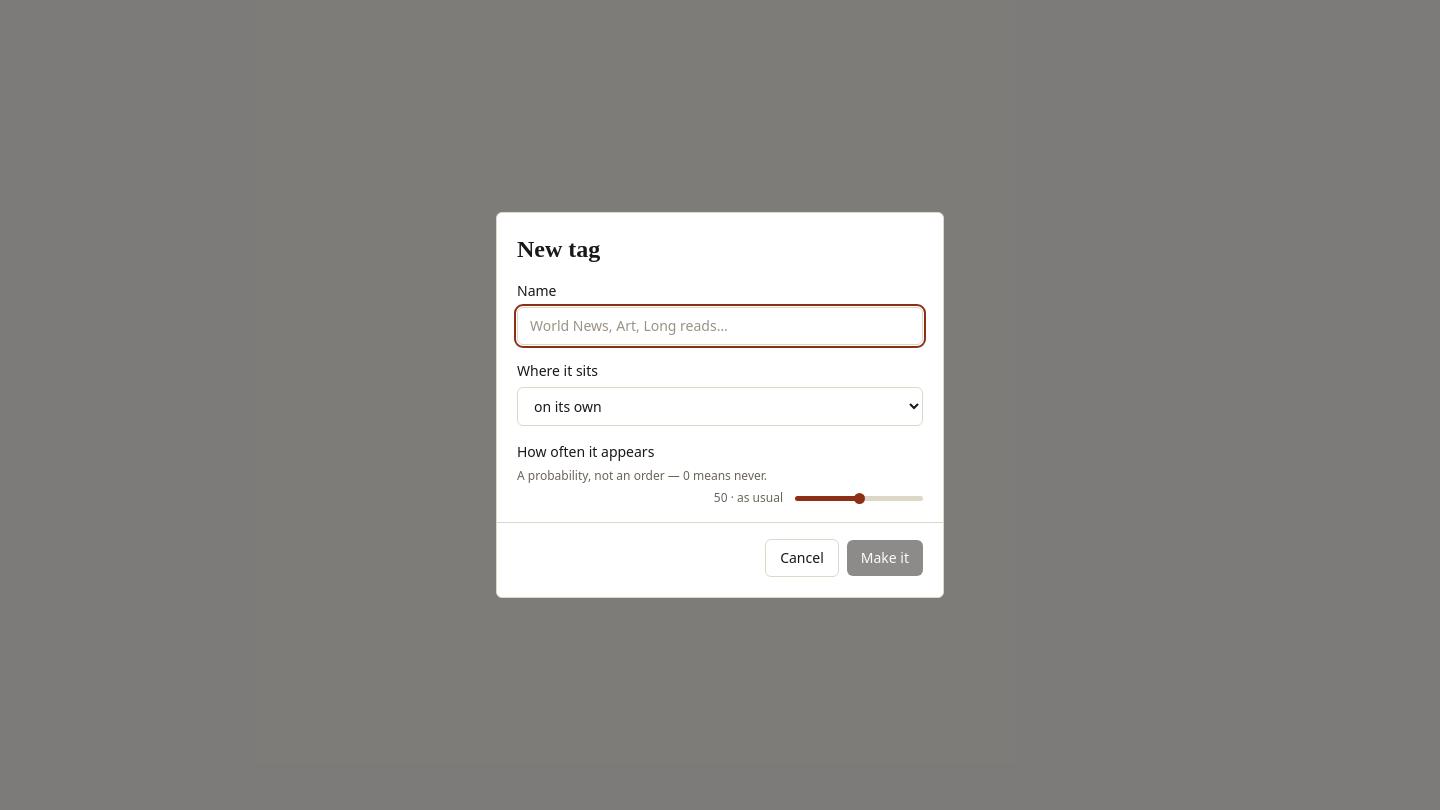
Test: NewTagDialog › says what the refusal was
The width and height of the screenshot is (1440, 810).
Type "News" into the field labelled "Name" at (720, 326), box [517,307,923,345]
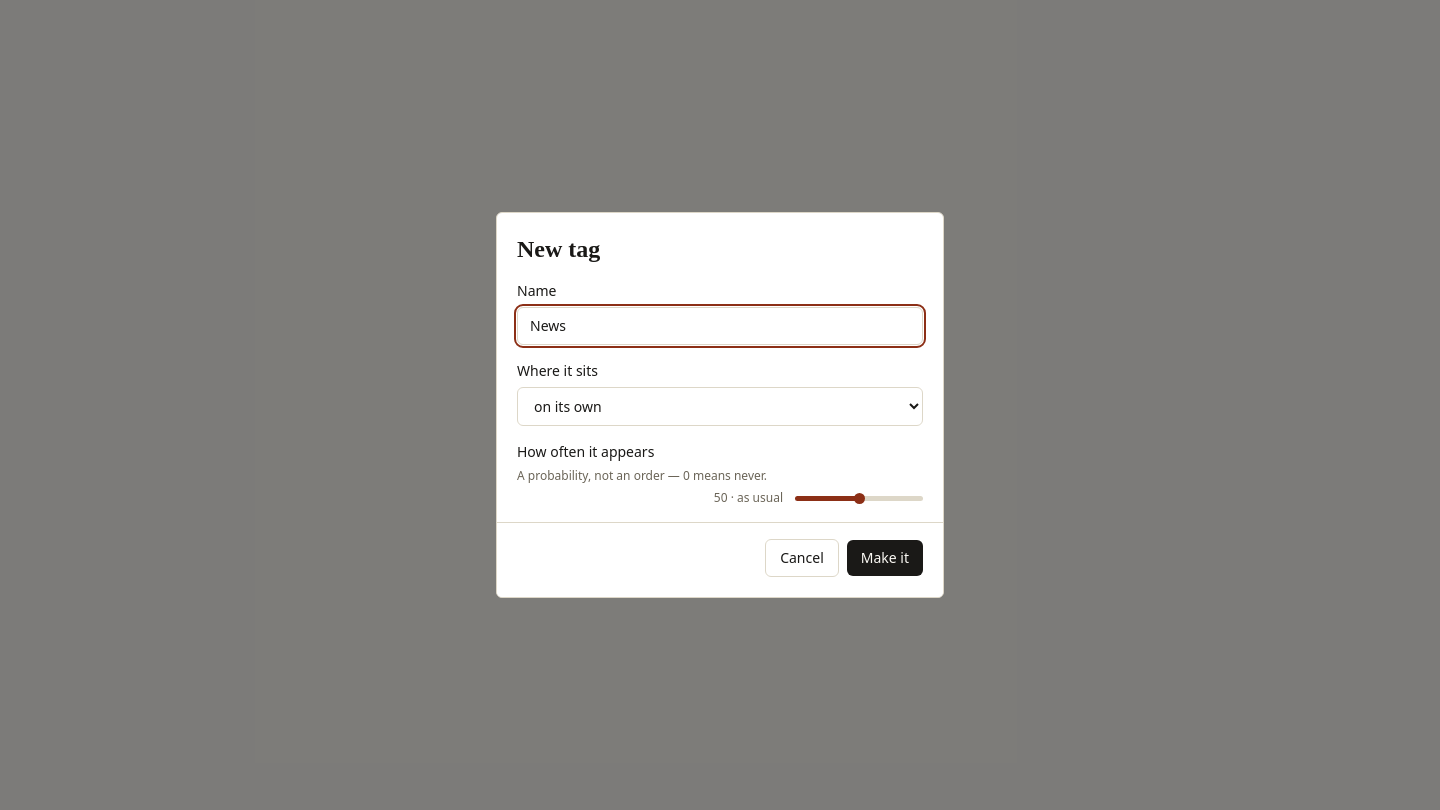
Click the button "Make it" at (885, 558), box [847,540,923,576]
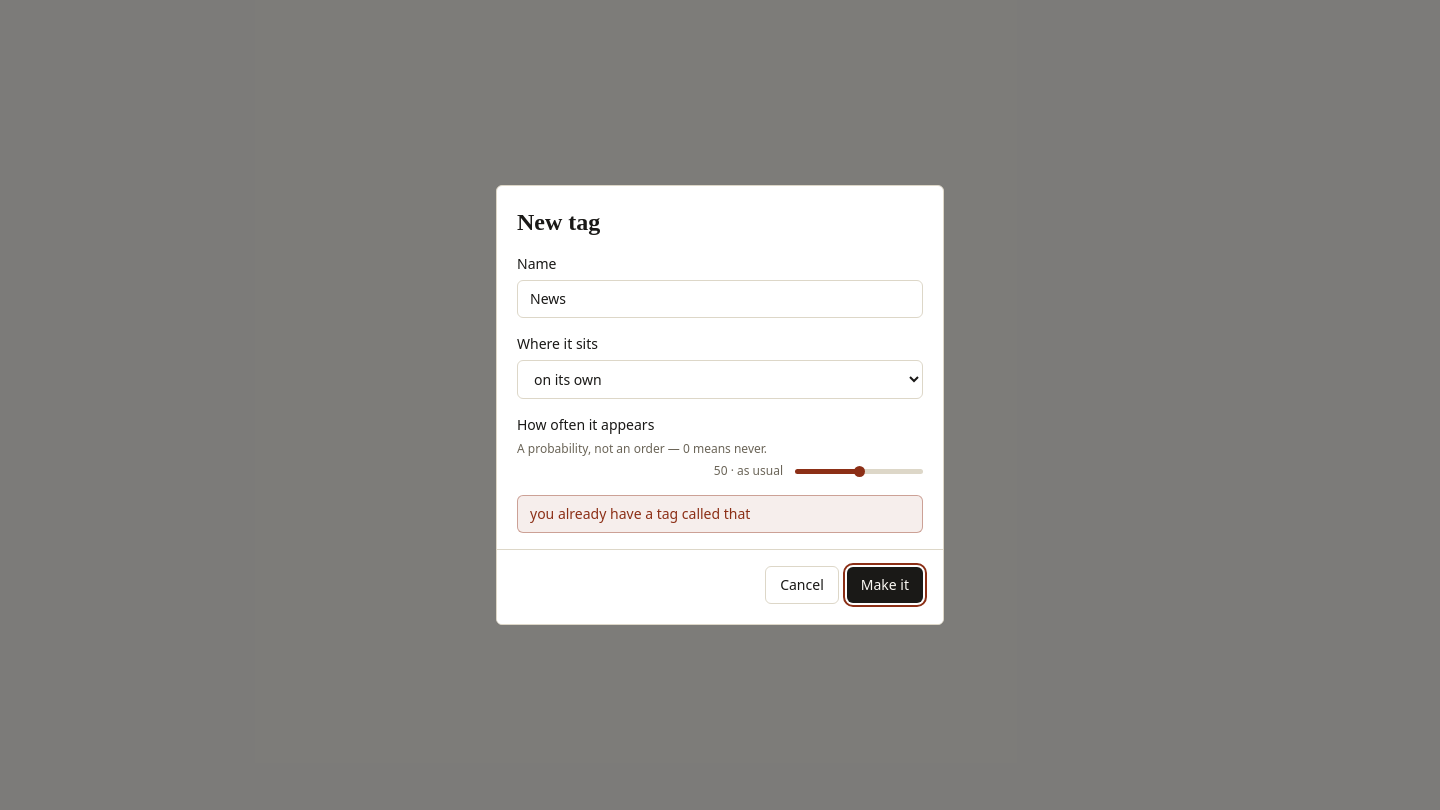
Result: the text "you already have a tag called that" is shown at [517,495,923,533]
